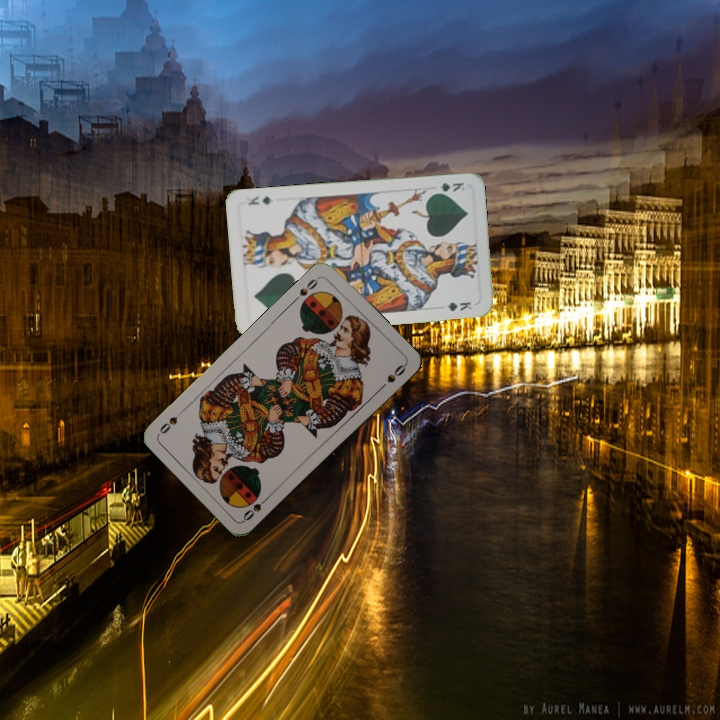GK: (428, 178, 467, 196)
SO: (239, 492, 272, 524), (290, 272, 323, 304)
